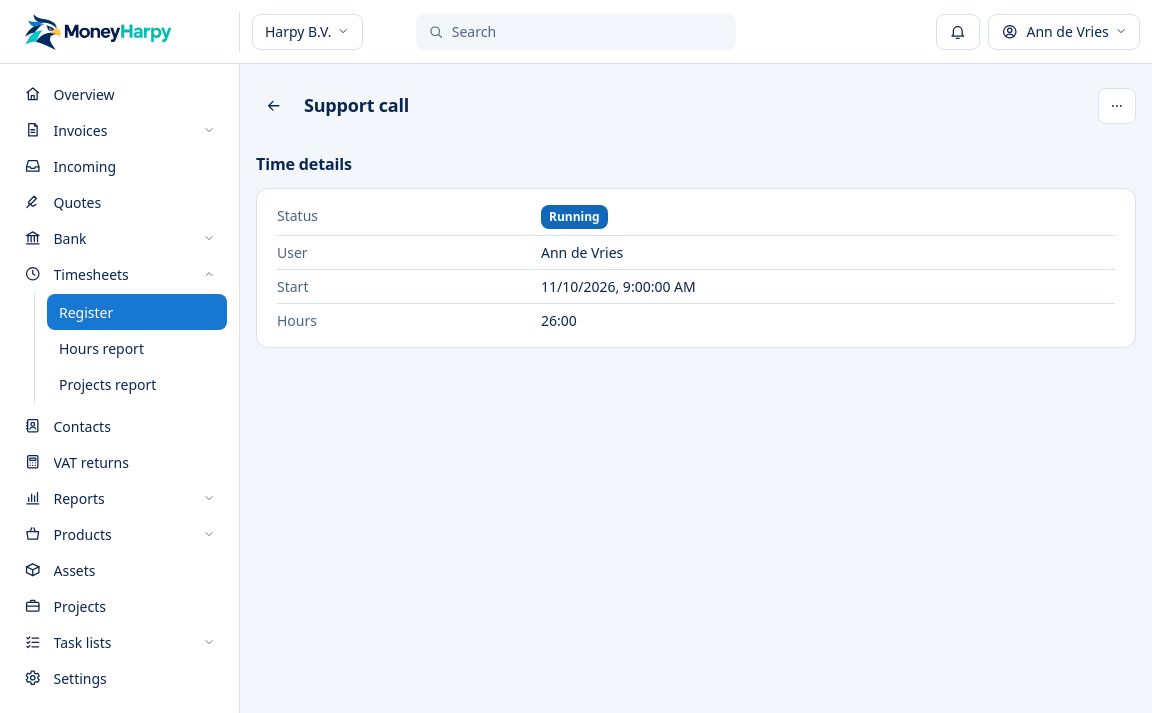
it: a time entry › shows its details and stops a running timer
This screenshot has width=1152, height=713.
Expected: the heading "Support call" is shown, 304,94 -> 409,118
Expected: the text "Running" is shown, 541,205 -> 608,229
Click the button named "More actions" at [1117, 106], box 1098,88 -> 1136,124
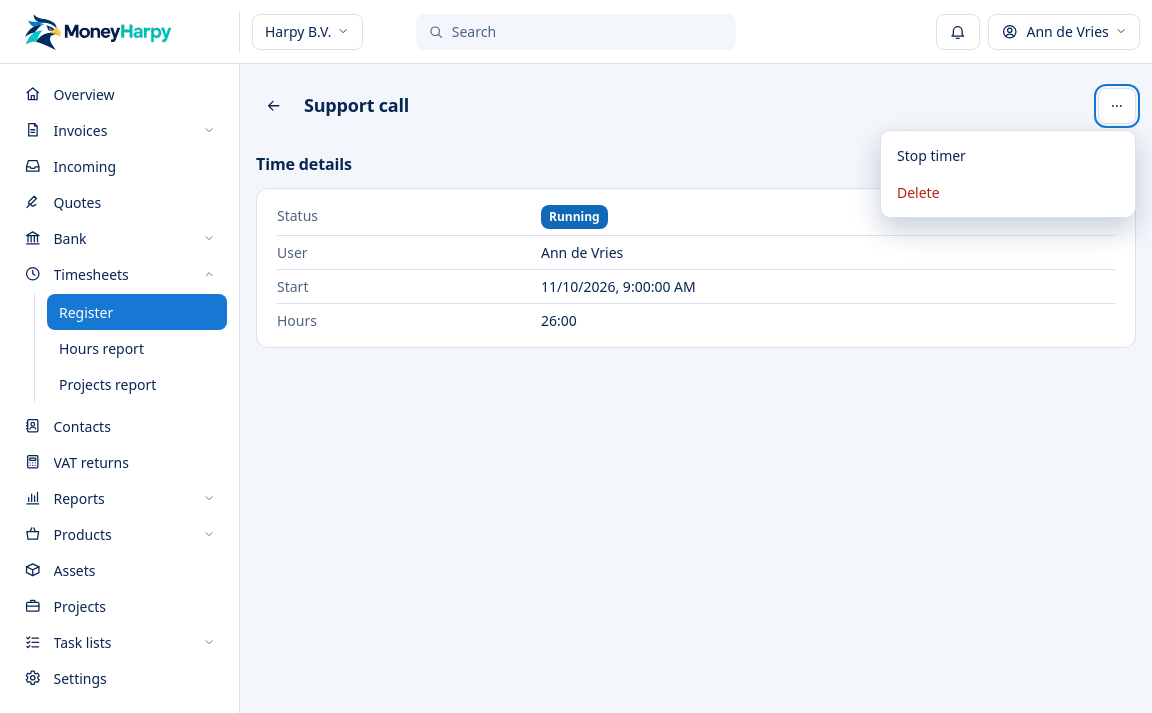
Click the button "Stop timer" at [1008, 156], box 887,137 -> 1129,174
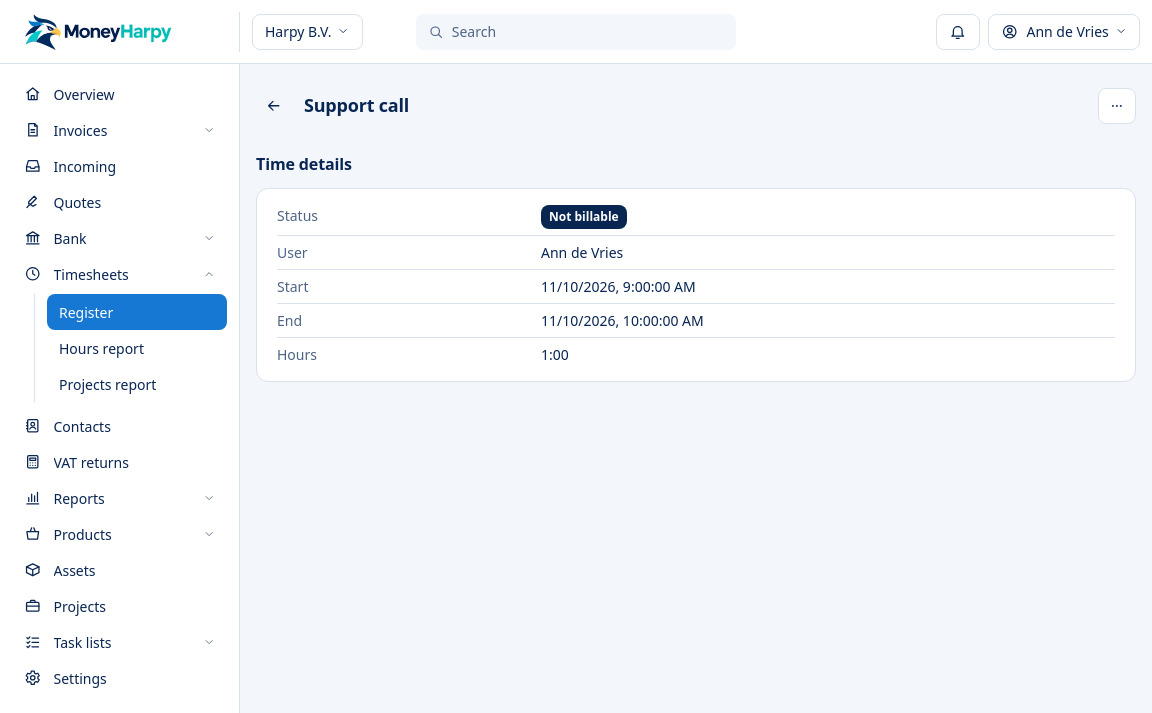
Expected: the text "Not billable" is shown, 541,205 -> 627,229
